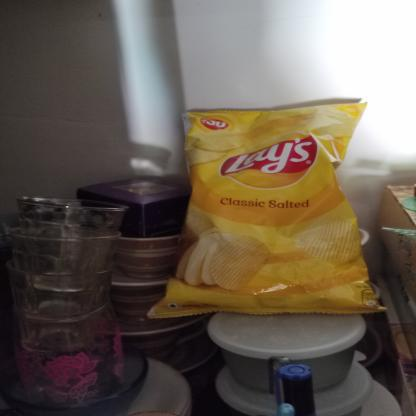classicsalted: (147, 100, 388, 320)
